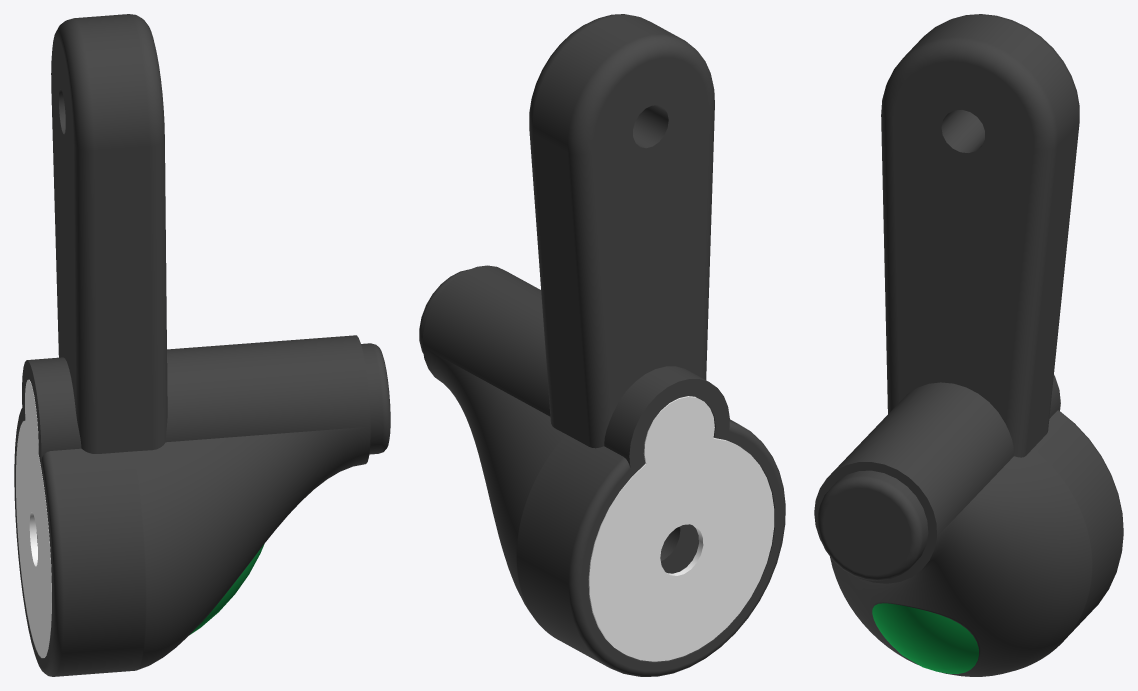
File: Leg.gltf
3 views of the same model, side by side, from view 1: azimuth 30°, elevation 25°; view 2: azimuth 150°, elevation 25°; view 3: azimuth 270°, elevation 25° (orthographic). The views are drawn at different scales.
Visible parts, largest first — view 1: Solid1; view 2: Solid1; view 3: Solid1.
Part boxes in pixels (box(x1,y1,x2,y2)): Solid1: box(14, 14, 390, 676); Solid1: box(419, 14, 785, 676); Solid1: box(814, 14, 1123, 676).
Bounding box in the file's own units: 4.29 × 7.51 × 3.28.
